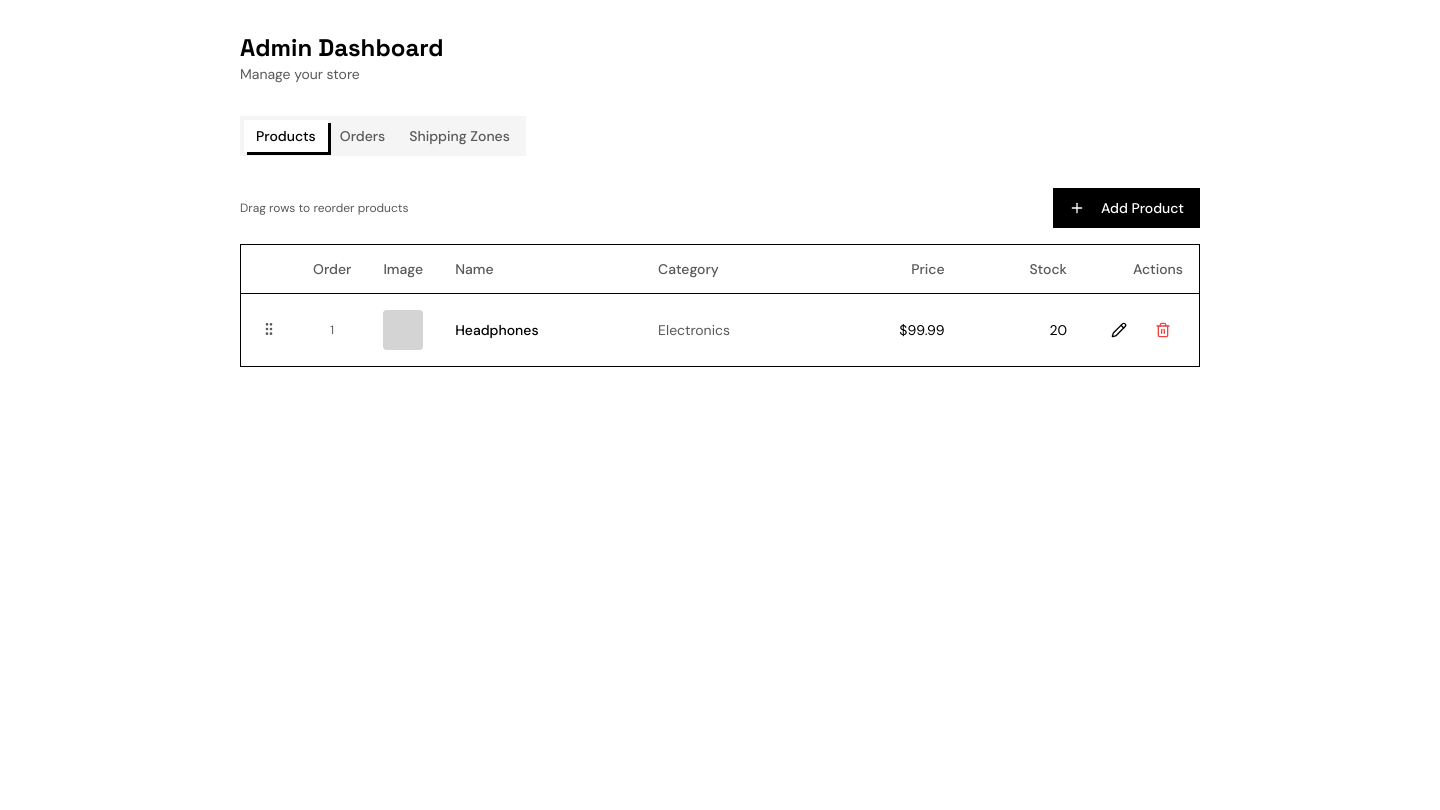
Test: AdminPage callbacks › opens edit dialog with product data pre-filled
The width and height of the screenshot is (1440, 810).
Step 1. Click the 3rd button → [1119, 330], box 1099,310 -> 1139,350
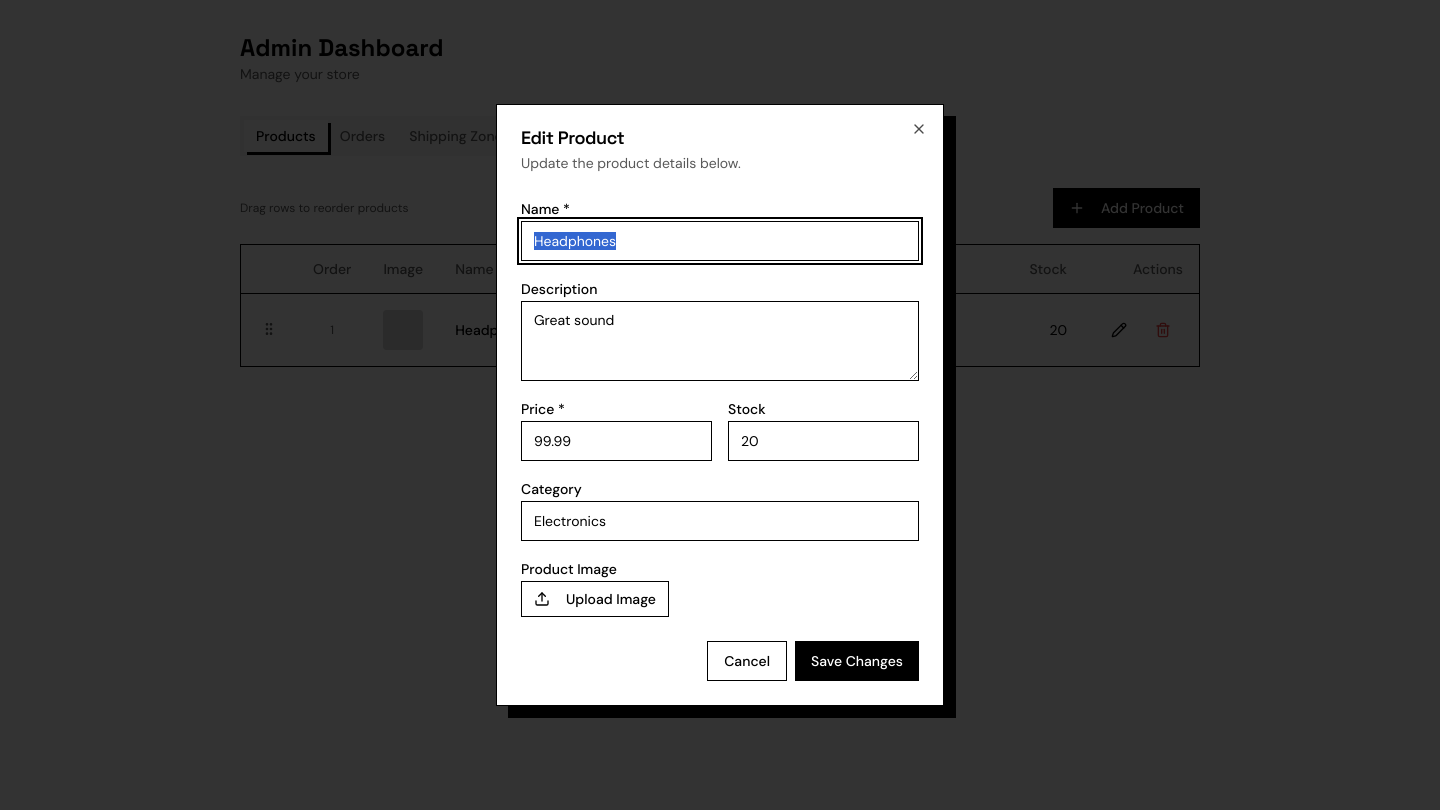
Result: the heading "Edit Product" is shown at 521,126 -> 624,149
Result: the button "Save Changes" is shown at 795,641 -> 919,681
Result: the field showing "Headphones" below "Name *" is shown at 521,221 -> 919,261
